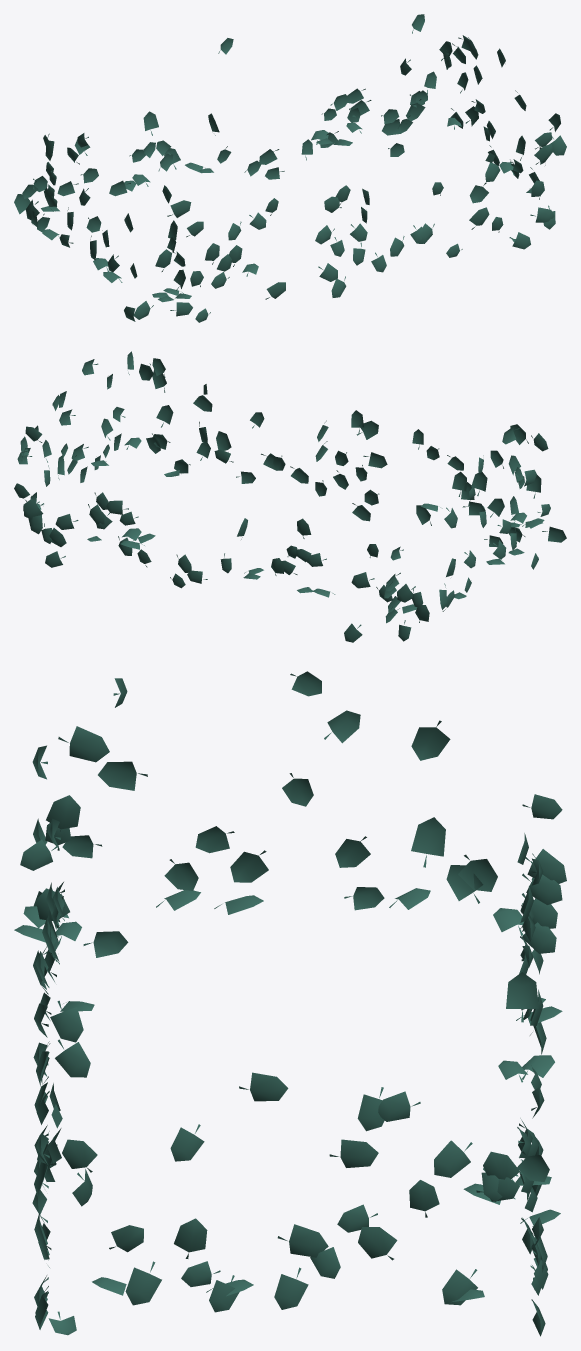
The model's file is IvyBox.fbx.
3 views of the same model, one above another, from view 1: azimuth 30°, elevation 25°; view 2: azimuth 150°, elevation 25°; view 3: azimuth 270°, elevation 25° (orthographic). The views are drawn at different scales.
Parts seen in each view (by area): view 1: IvyBox; view 2: IvyBox; view 3: IvyBox.
Part boxes in pixels (bbox=[...]): IvyBox: bbox=[14, 14, 566, 322]; IvyBox: bbox=[14, 351, 566, 642]; IvyBox: bbox=[14, 671, 566, 1336].
Bounding box in the file's own units: 641 × 357 × 226.
